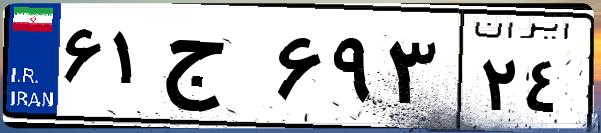1: (110, 28, 158, 98)
2: (475, 38, 525, 113)
3: (385, 28, 445, 110)
4: (525, 38, 570, 115)
6: (270, 28, 330, 110), (57, 26, 110, 100)
9: (330, 28, 385, 110)
ج: (158, 20, 270, 120)
